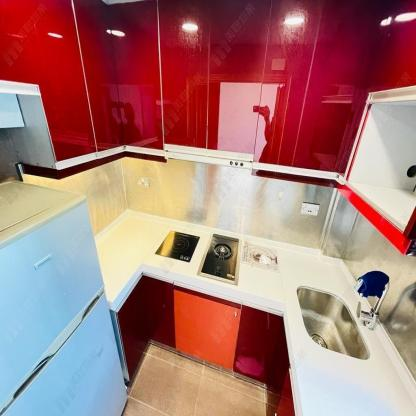Cupboard: (106, 1, 365, 185)
Exhaust Hood: (163, 144, 253, 169)
Faucet: (357, 267, 388, 334)
Fridge: (0, 179, 131, 415)
Sink: (283, 278, 384, 379)
Stove: (191, 230, 245, 292), (144, 222, 204, 273)
